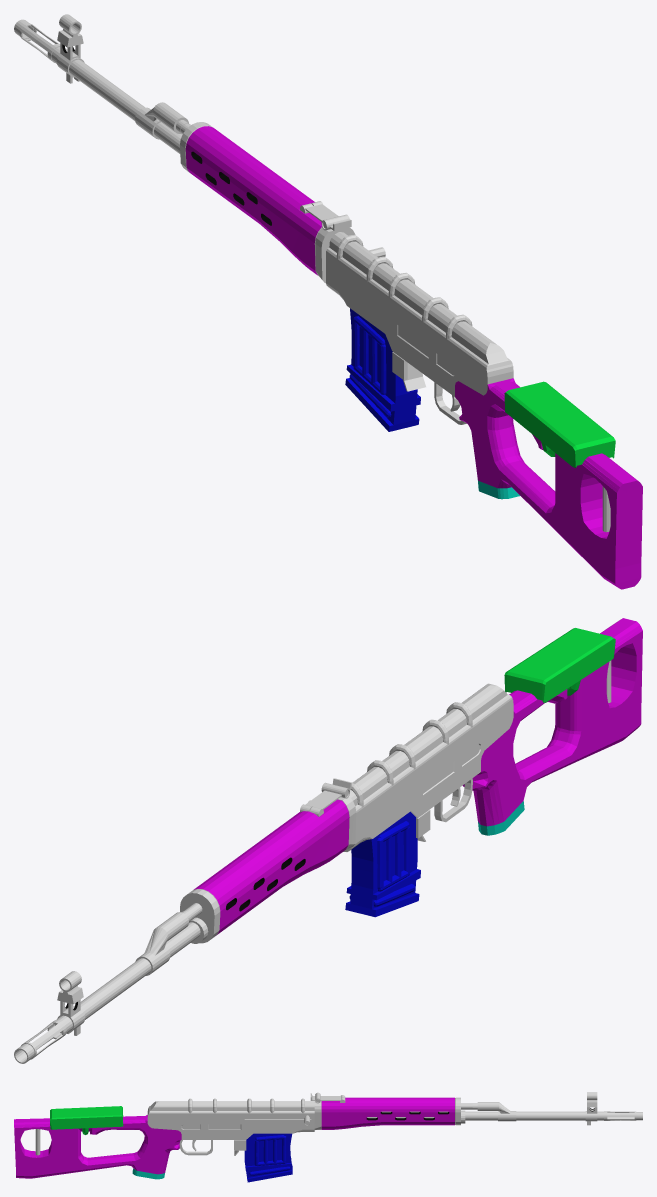
Rendered from SVD.fbx.
3 renders of one model, top to bottom at view 1: azimuth 30°, elevation 25°; view 2: azimuth 150°, elevation 25°; view 3: azimuth 270°, elevation 25°, orthographic. The views are drawn at different scales.
Visible parts, largest first — view 1: Cylinder; view 2: Cylinder; view 3: Cylinder.
Part boxes in pixels (box(x1,y1,x2,y2)): Cylinder: box(14, 14, 642, 589); Cylinder: box(14, 618, 642, 1063); Cylinder: box(14, 1092, 642, 1182).
Bounding box in the file's own units: 4.16 × 76.59 × 11.55.
